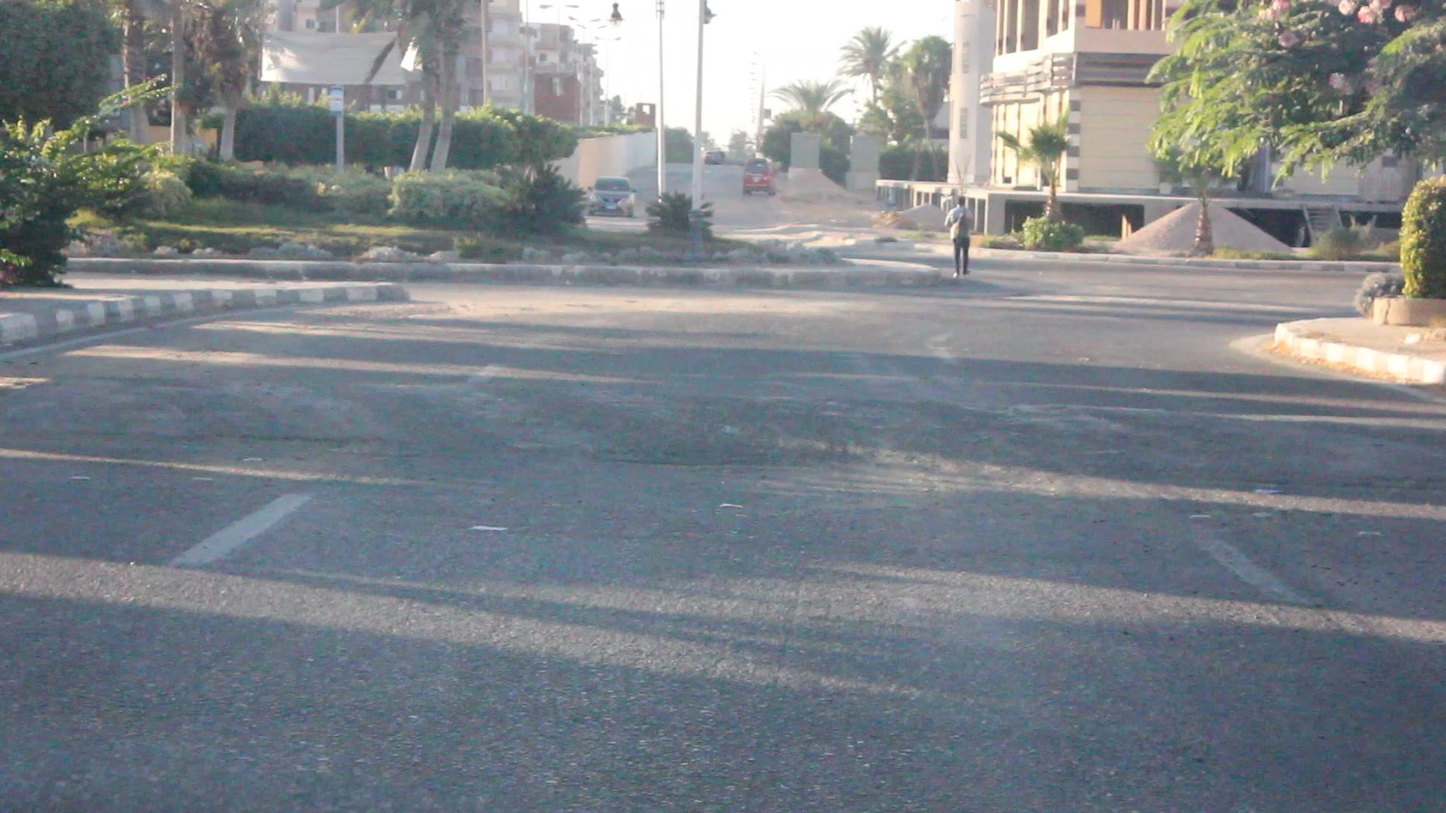Bump: (0, 373, 1445, 487)
